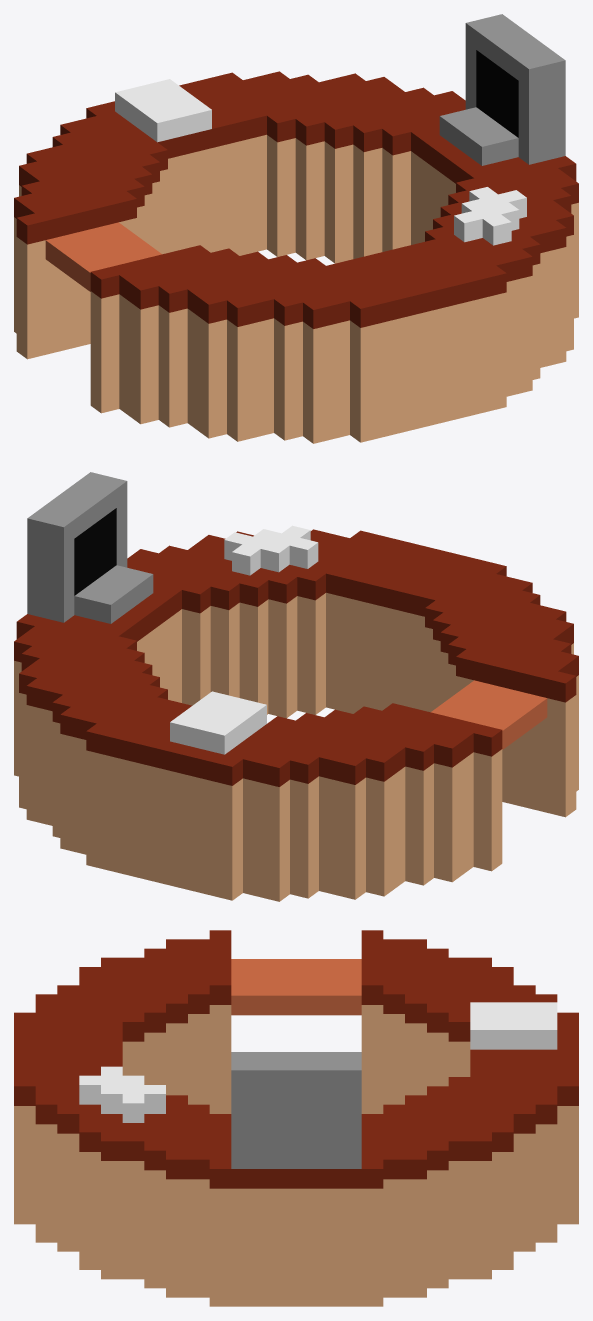
The model's file is CircleDesk.obj.
The picture shows the model from 3 angles, top to bottom: view 1: azimuth 30°, elevation 25°; view 2: azimuth 150°, elevation 25°; view 3: azimuth 270°, elevation 25°; orthographic projection. The views are drawn at different scales.
Bounding box in the file's own units: 7.8 × 3.6 × 7.8.
Materials: 1 (1 with a texture image).
